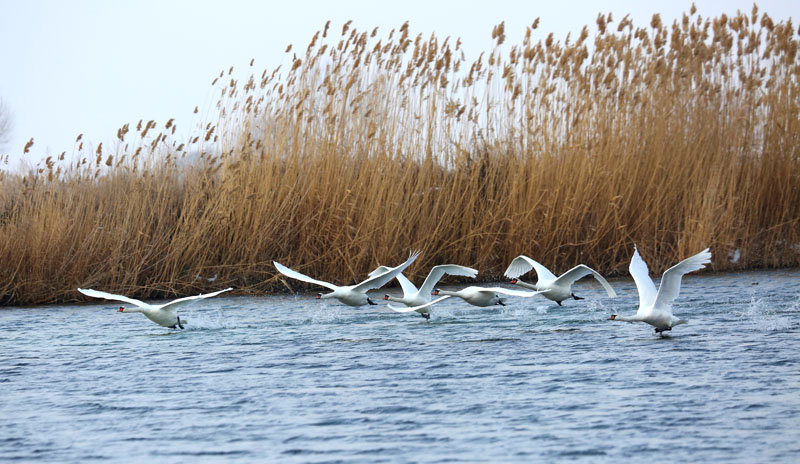bird: (594, 243, 713, 338), (75, 279, 237, 338), (267, 247, 420, 309), (365, 259, 478, 322), (502, 254, 619, 312), (427, 282, 550, 313)
